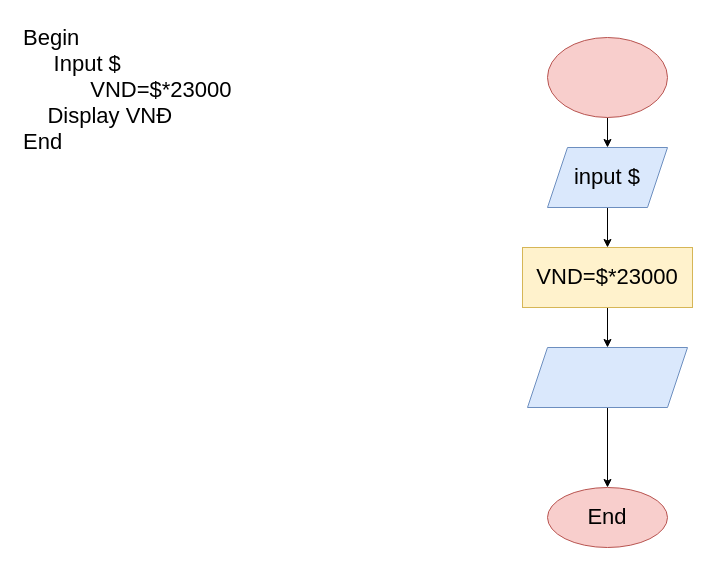
Image size: 710x565. Some labels were removed from this diagram. Each missing label, with the centre of its shape:
"Begin" belongs at (607,77).
"Display VND" belongs at (607,377).
